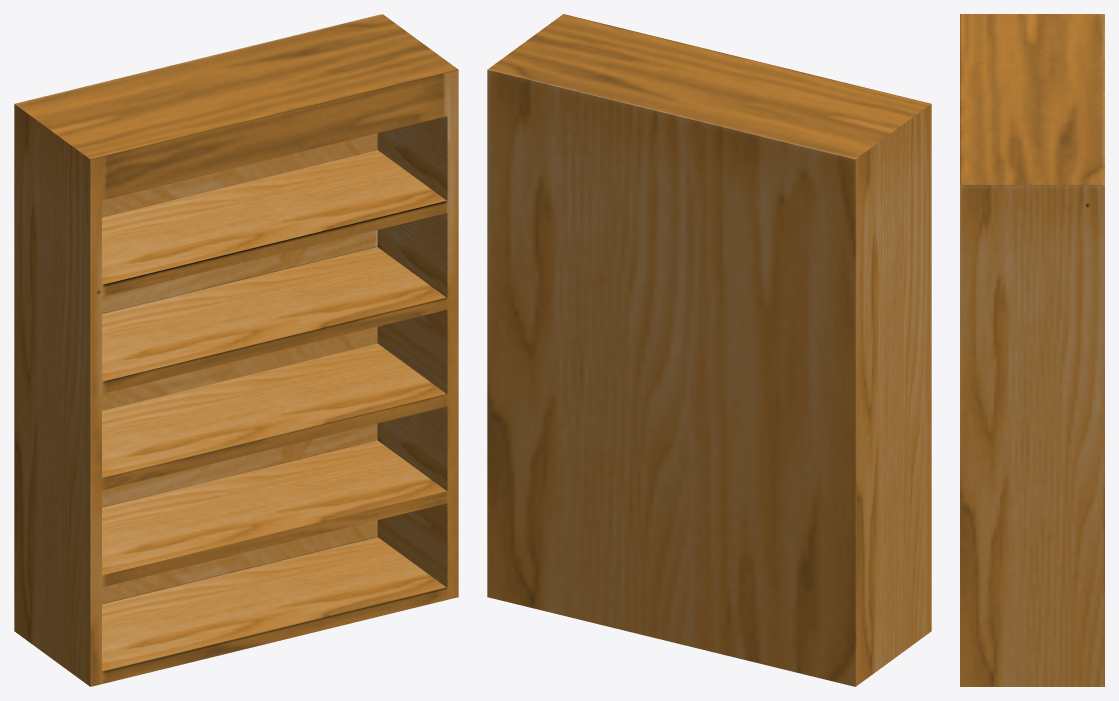
The model's file is Bookcase.FBX.
3 views of the same model, side by side, from view 1: azimuth 30°, elevation 25°; view 2: azimuth 150°, elevation 25°; view 3: azimuth 270°, elevation 25° (orthographic). The views are drawn at different scales.
Visible parts, largest first — view 1: BookCase; view 2: BookCase; view 3: BookCase.
Boxes of the visible parts, <box> form: BookCase: <box>14,14,458,686</box>; BookCase: <box>487,14,931,686</box>; BookCase: <box>960,14,1104,686</box>.
Size of the model in its own units: 42.18 by 57.73 by 15.1.
